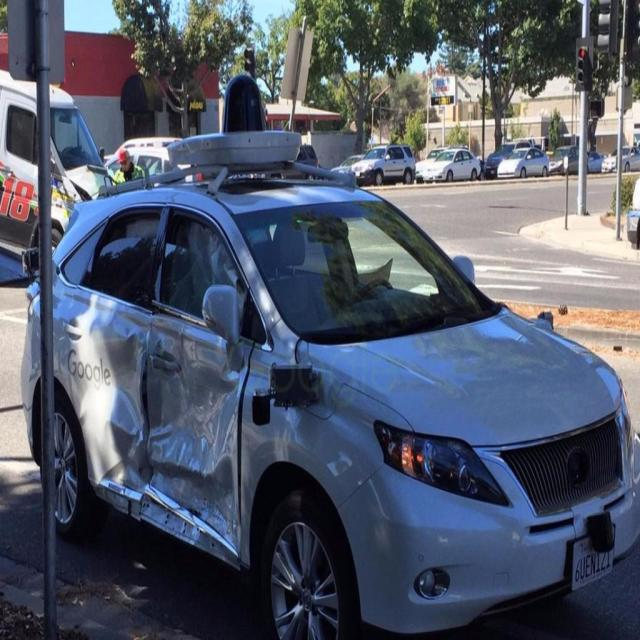Damage: (57, 269, 300, 575)
